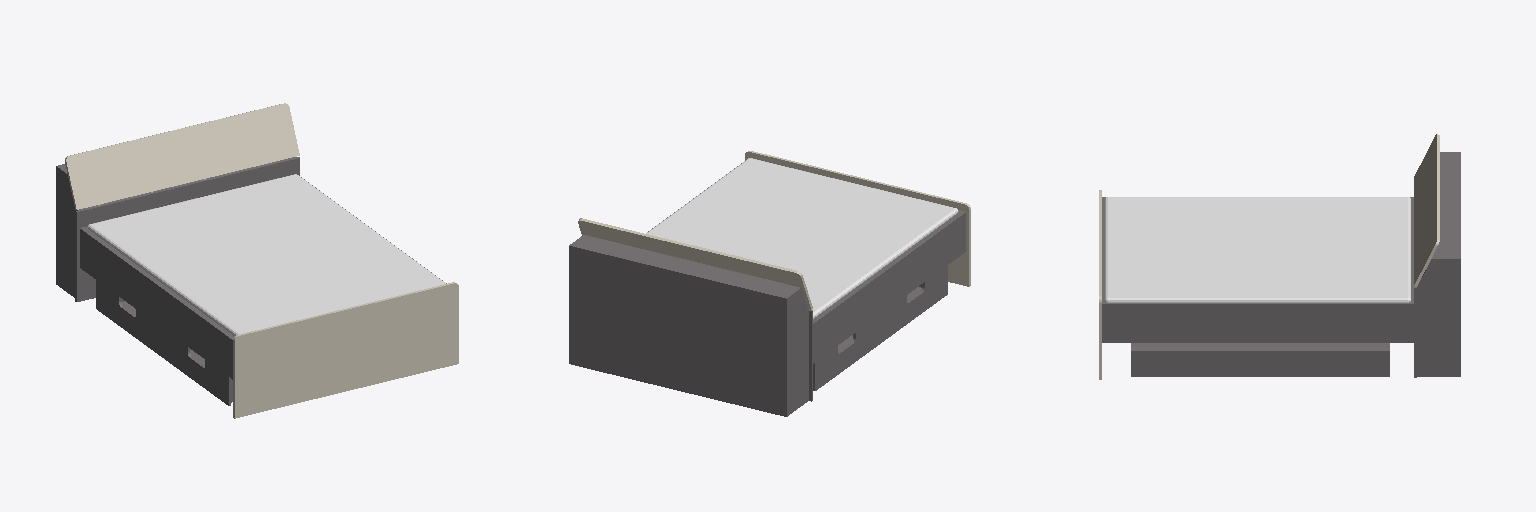
The model's file is 2pir_lozko2os_szczyt_pojemnik_160.obj.
3 views of the same model, side by side, from view 1: azimuth 30°, elevation 25°; view 2: azimuth 150°, elevation 25°; view 3: azimuth 270°, elevation 25° (orthographic).
Visible parts, largest first — view 1: ChamferBox01, Rectangle16, Rectangle15, Box02, Rectangle01, Line01; view 2: Line01, ChamferBox01, Box02, Rectangle15, Rectangle01, Rectangle16; view 3: ChamferBox01, Box02, Box01, Line01, Rectangle15, Rectangle16.
Part boxes in pixels (x1,y1,x2,y2): ChamferBox01: (87,174,445,335); Rectangle16: (233,282,458,418); Rectangle15: (65,103,299,301); Box02: (80,177,446,379); Rectangle01: (96,280,230,405); Line01: (56,157,294,297); Line01: (569,235,808,416); ChamferBox01: (646,158,958,318); Box02: (648,160,965,363); Rectangle15: (578,218,812,401); Rectangle01: (813,265,947,390); Rectangle16: (745,151,970,286); ChamferBox01: (1105,197,1410,302); Box02: (1102,197,1413,342); Box01: (1131,343,1389,376); Line01: (1417,152,1460,376); Rectangle15: (1414,134,1439,377); Rectangle16: (1099,190,1101,379).
Size of the model in its own units: 165 by 96.98 by 231.